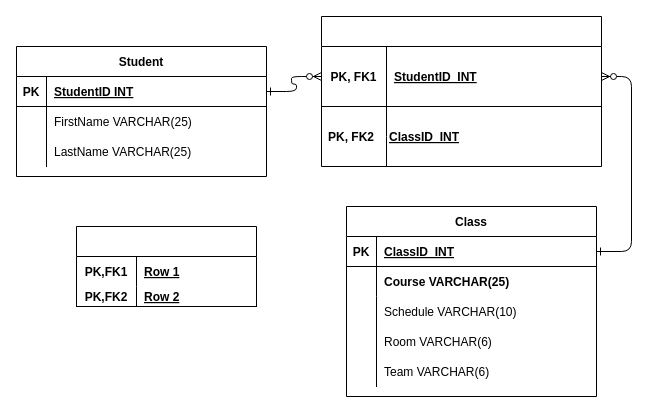
Image size: 648x413. Some labels were removed from this diagram. The shapes that lost their labels are listed below. From the top down, each one's box as (x1, y1, x2, y2) in pixels, then its label:
(320, 16, 602, 166): Enrollment
(76, 226, 256, 306): Table
